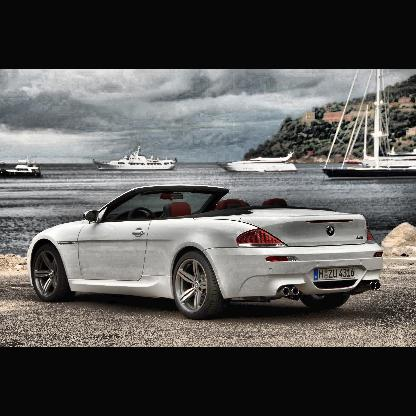BMW M6 Convertible 2010: (17, 176, 390, 327)
